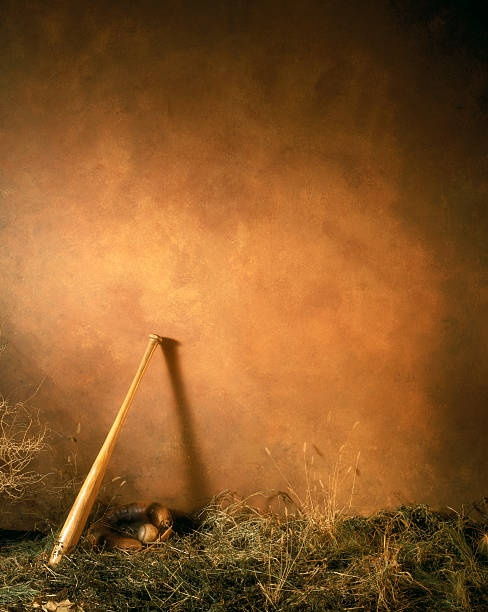bita: (46, 332, 159, 566)
